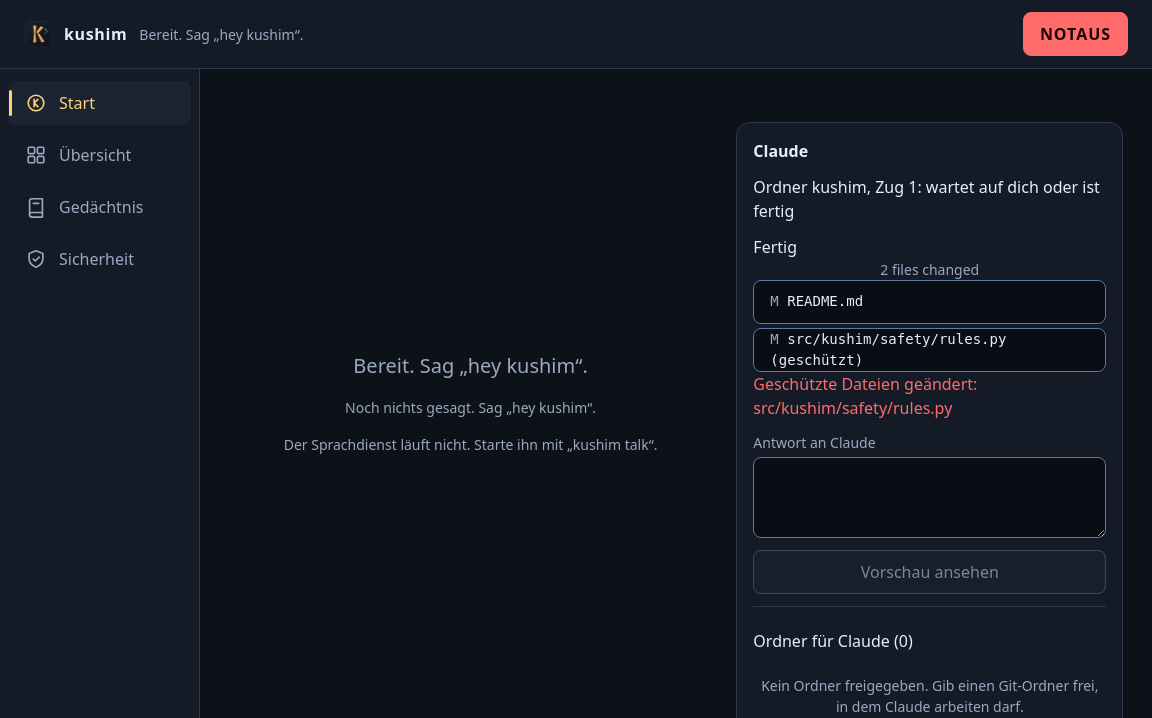
Test: Diff-Ansicht › zeigt den Diff einer Datei nur nach Klick, als Text mit Hinzugefügt/Entfernt-Markierung
The width and height of the screenshot is (1152, 718).
expect the list named "Geänderte Dateien" is shown: met, box [753,280,1106,372]
Click the button "M README.md": (825, 301) [753,280,1106,324]
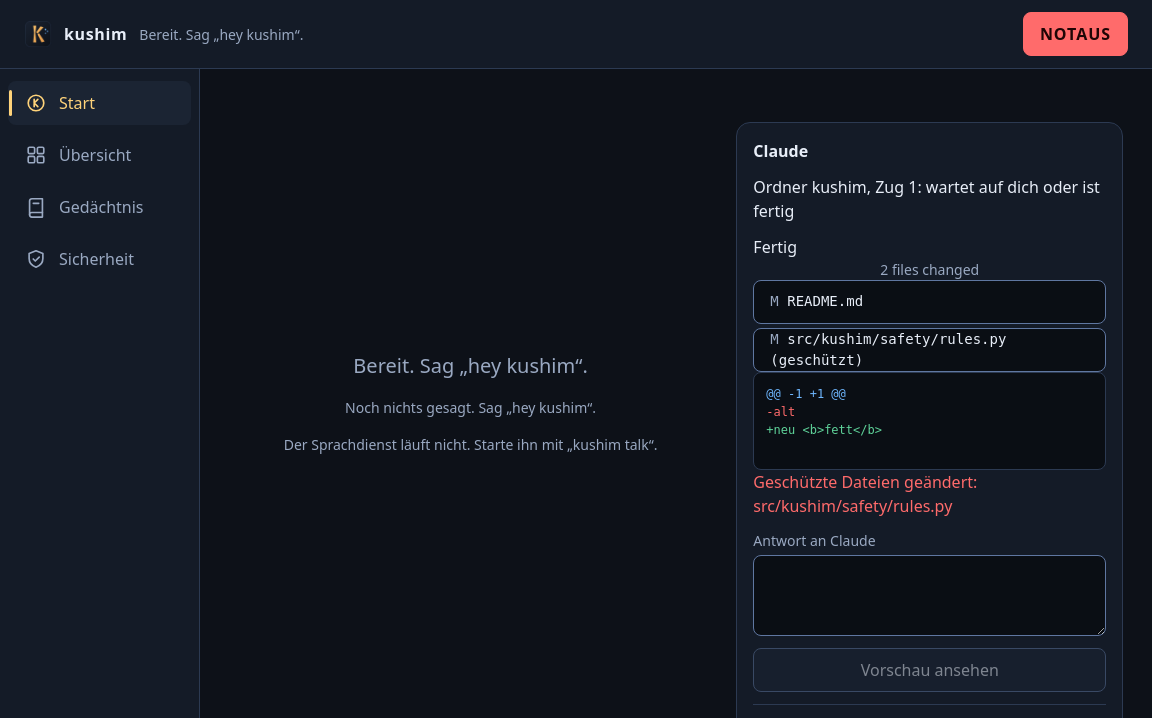
expect the element named "Diff README.md" is shown: met, box [753,372,1106,470]
expect the text with class "del" reads "-alt": met, box [766,405,795,419]
expect the text "@@ -1 +1 @@" is shown: met, box [766,387,846,401]
